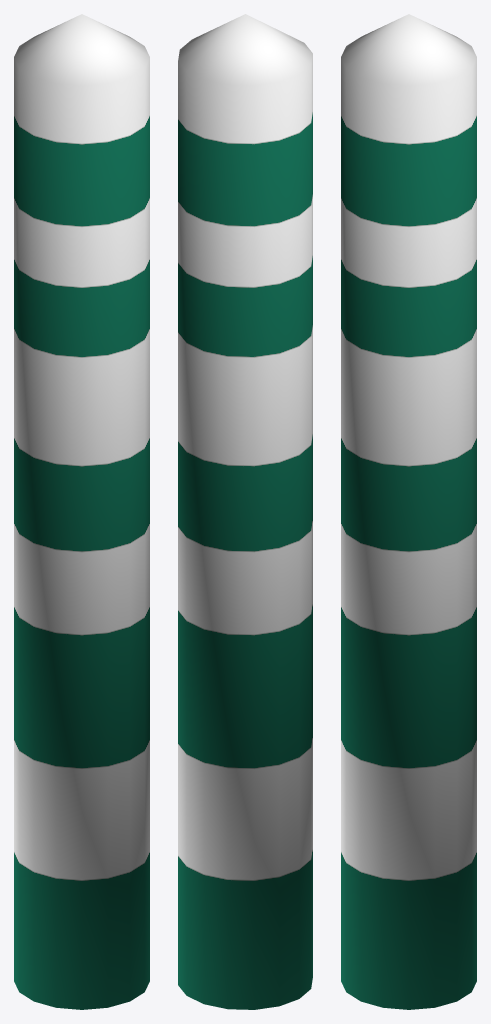
The model's file is candle.glb.
3 renders of one model, left to right at view 1: azimuth 90°, elevation 25°; view 2: azimuth 210°, elevation 25°; view 3: azimuth 270°, elevation 25°, orthographic.
Parts seen in each view (by area): view 1: Candle; view 2: Candle; view 3: Candle.
Boxes of the visible parts, left/top/right/bottom form: Candle: left=14, top=14, right=149, bottom=1009; Candle: left=178, top=14, right=312, bottom=1009; Candle: left=341, top=14, right=476, bottom=1009.
Bounding box in the file's own units: 0.624 × 4.9 × 0.624.
1 material, 1 textured.
